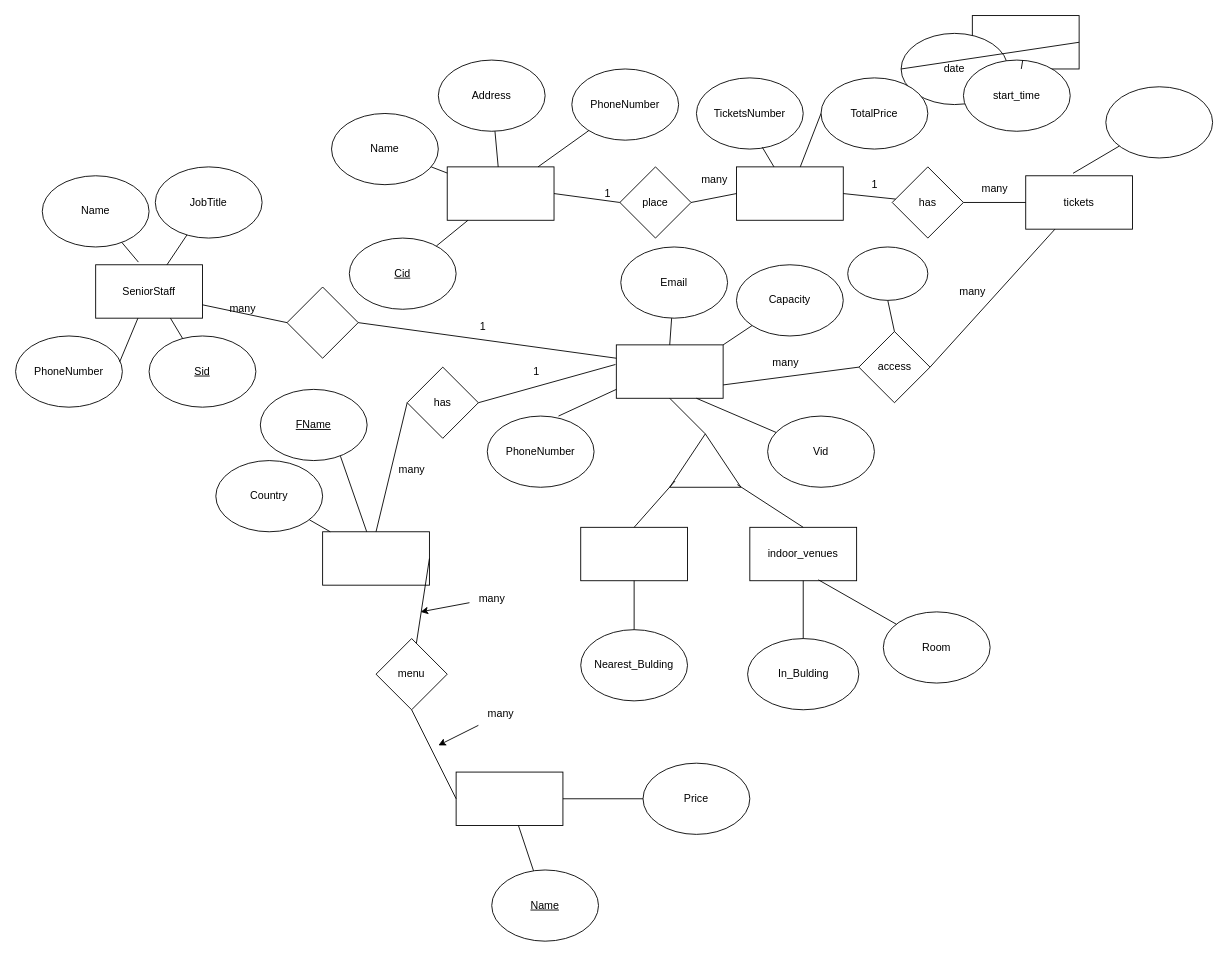
Some shapes in this 1228 by 957 pixel diagram are drawn without their labels. Here are the shapes that lost their labels. From the top down, the box of each, then its label:
(971, 15, 1079, 69): festival(未做完)
(1105, 86, 1213, 158): Tid
(446, 166, 554, 220): customers
(736, 166, 843, 220): orders
(847, 246, 928, 300): Aid
(286, 286, 358, 358): monitor
(615, 344, 723, 398): venues
(669, 433, 741, 487): ISA
(322, 531, 429, 585): food stand
(580, 526, 688, 581): outdoor_venues
(455, 771, 563, 825): cuisine
